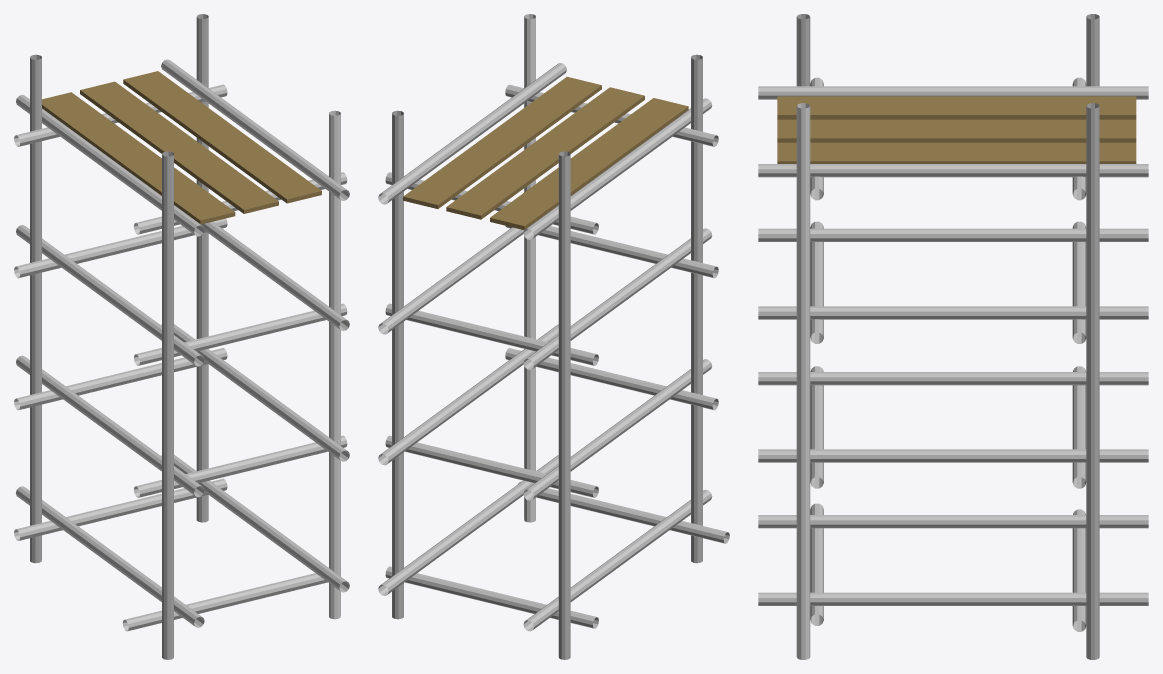
Rendered from scaffolding3.fbx.
3 renders of one model, left to right at view 1: azimuth 30°, elevation 25°; view 2: azimuth 150°, elevation 25°; view 3: azimuth 270°, elevation 25°, orthographic. The views are drawn at different scales.
Parts seen in each view (by area): view 1: pCube54, pCube58, pCylinder48, pCube31, pCylinder87, pCylinder36, pCylinder47, pCylinder74, pCylinder81, pCylinder37, pCylinder41, pCylinder92 (+11 smaller); view 2: pCylinder87, pCube54, pCube58, pCube31, pCylinder48, pCylinder47, pCylinder36, pCylinder74, pCylinder41, pCylinder92, pCylinder81, pCylinder37 (+11 smaller); view 3: pCylinder36, pCube31, pCube58, pCylinder47, pCube54, pCylinder52, pCylinder42, pCylinder37, pCylinder92, pCylinder83, pCylinder41, pCylinder74 (+9 smaller).
Boxes of the visible parts, left/top/right/bottom form: pCube54: left=123, top=71, right=321, bottom=203; pCube58: left=80, top=81, right=278, bottom=213; pCylinder48: left=162, top=151, right=173, bottom=659; pCube31: left=42, top=92, right=235, bottom=224; pCylinder87: left=30, top=54, right=41, bottom=563; pCylinder36: left=329, top=110, right=340, bottom=619; pCylinder47: left=196, top=14, right=208, bottom=522; pCylinder74: left=161, top=59, right=349, bottom=200; pCylinder81: left=16, top=94, right=204, bottom=236; pCylinder37: left=16, top=225, right=204, bottom=366; pCylinder41: left=16, top=486, right=204, bottom=627; pCylinder92: left=16, top=355, right=204, bottom=497; pCylinder87: left=558, top=151, right=570, bottom=659; pCube54: left=403, top=76, right=601, bottom=208; pCube58: left=446, top=87, right=644, bottom=219; pCube31: left=490, top=98, right=688, bottom=229; pCylinder48: left=691, top=54, right=702, bottom=563; pCylinder47: left=392, top=110, right=403, bottom=619; pCylinder36: left=524, top=14, right=535, bottom=522; pCylinder74: left=378, top=63, right=566, bottom=204; pCylinder41: left=523, top=489, right=712, bottom=631; pCylinder92: left=523, top=359, right=711, bottom=500; pCylinder81: left=523, top=98, right=712, bottom=239; pCylinder37: left=523, top=228, right=712, bottom=369; pCylinder36: left=796, top=103, right=810, bottom=659; pCube31: left=777, top=96, right=1136, bottom=119; pCube58: left=777, top=119, right=1136, bottom=142; pCylinder47: left=1086, top=103, right=1099, bottom=659; pCube54: left=777, top=142, right=1136, bottom=163; pCylinder52: left=758, top=306, right=1148, bottom=319; pCylinder42: left=758, top=449, right=1148, bottom=462; pCylinder37: left=758, top=228, right=1148, bottom=241; pCylinder92: left=758, top=372, right=1148, bottom=385; pCylinder83: left=758, top=592, right=1148, bottom=605; pCylinder41: left=758, top=515, right=1148, bottom=528; pCylinder74: left=758, top=164, right=1148, bottom=177.
Size of the model in its own units: 10.43 by 22.96 by 14.74.
